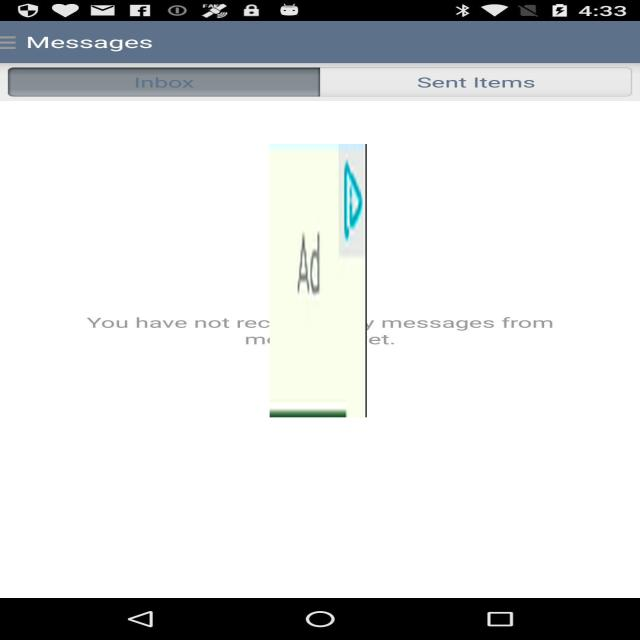sneaking: (270, 144, 366, 417)
